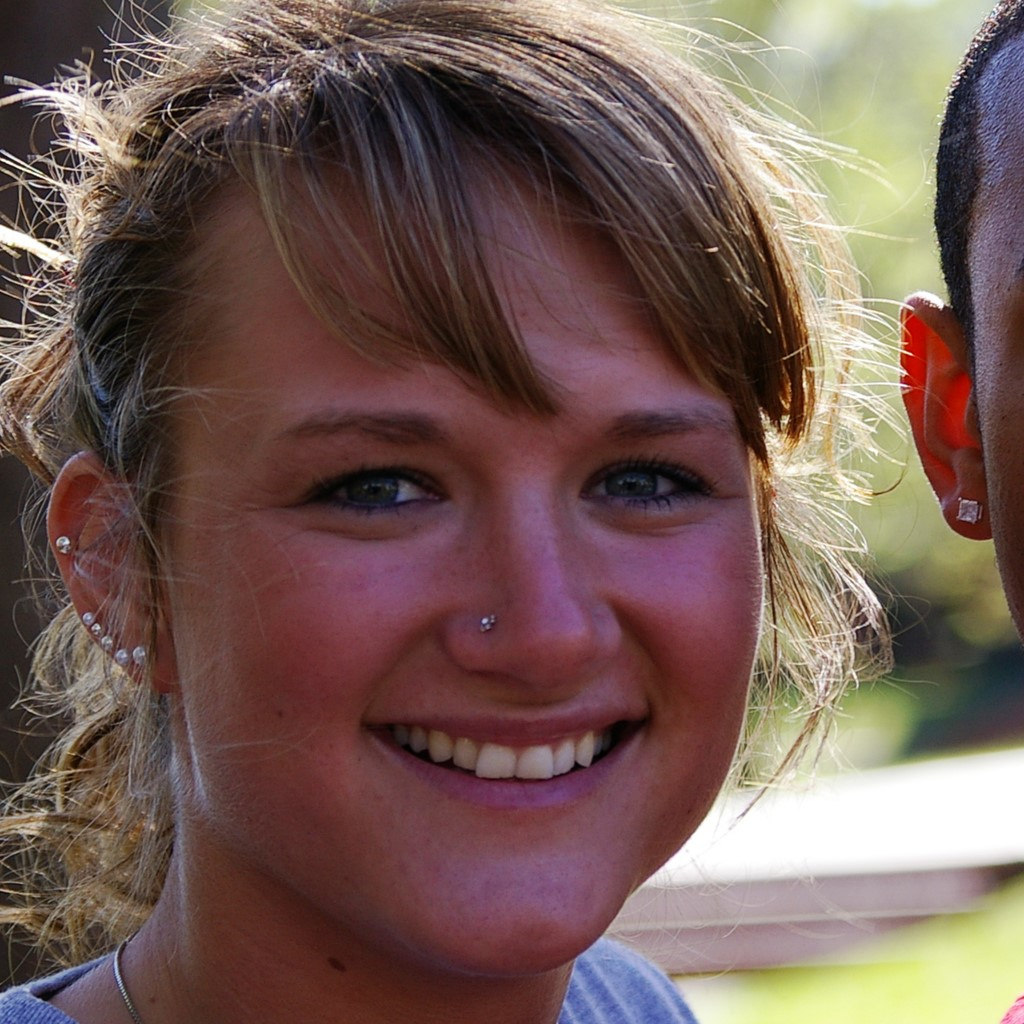sin_mascara: (149, 109, 776, 982)
